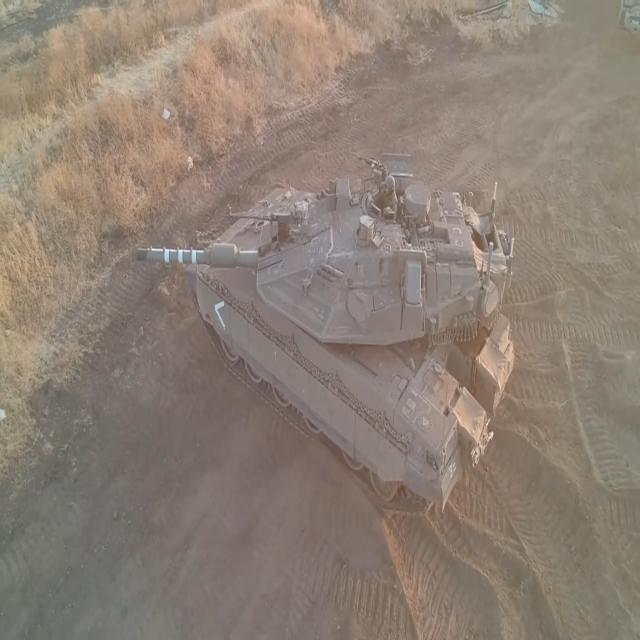tank: (128, 132, 519, 528)
